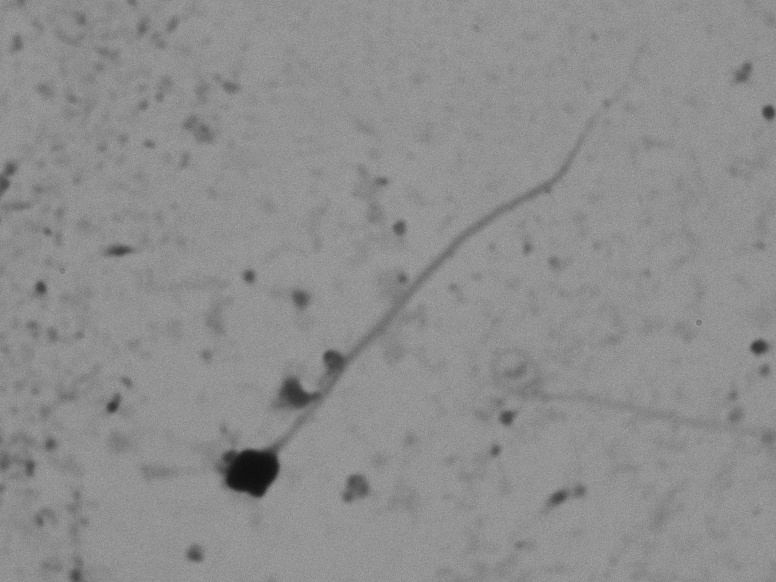Abnormal: (206, 27, 679, 520)
